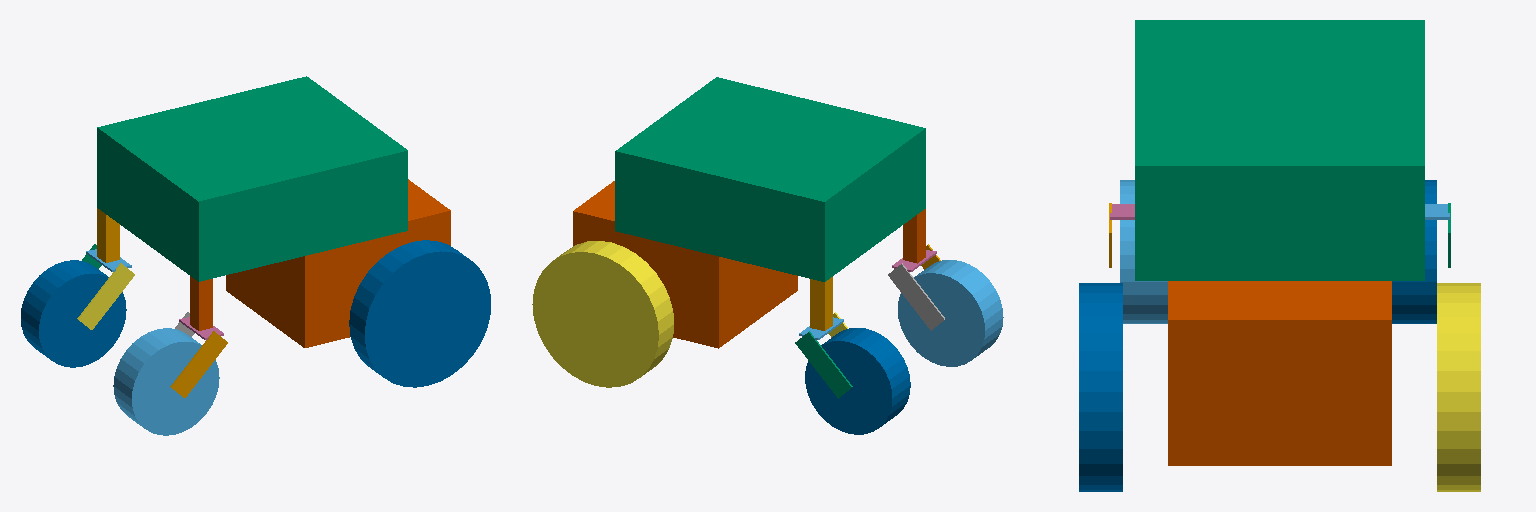
robot.urdf — mobot:
<?xml version="1.0" ?>
<!-- =================================================================================== -->
<!-- |    This document was autogenerated by xacro from mobot.xacro                    | -->
<!-- |    EDITING THIS FILE BY HAND IS NOT RECOMMENDED                                 | -->
<!-- =================================================================================== -->
<robot name="mobot" xmlns:xacro="http://www.ros.org/wiki/xacro">
  <!-- define the base-link origin to lie at floor level, between the drive wheels-->
  <!--main body is a simple box; origin is a center of box-->
  <!--clearance from bottom of box to ground-->
  <!-- derived values-->
  <!-- placement of main body relative to base link frame -->
  <!-- define the drive-wheel dimensions-->
  <!-- "track" is the distance between the drive wheels -->
  <!-- battery box dimensions -->
  <!-- placement of battery box relative to base frame -->
  <!--here is a default inertia matrix with small, but legal values; use this when don't need accuracy for I -->
  <!--model will assign inertia matrix dominated by main body box -->
  <link name="castdrop_left">
    <visual>
      <geometry>
        <box size="0.0381 0.0381 0.125"/>
      </geometry>
      <origin rpy="0 0 0" xyz="0 0 0"/>
    </visual>
    <collision>
      <geometry>
        <box size="0.0381 0.0381 0.125"/>
      </geometry>
      <origin rpy="0 0 0" xyz="0 0 0"/>
    </collision>
    <inertial>
      <mass value="0.2"/>
      <inertia ixx="0.01" ixy="0.0" ixz="0.0" iyy="0.01" iyz="0.0" izz="0.01"/>
    </inertial>
  </link>
  <joint name="cast2base_left" type="fixed">
    <parent link="base_link"/>
    <child link="castdrop_left"/>
    <origin xyz="-0.52705 0.20955 0.2875"/>
  </joint>
  <link name="brackettop_left">
    <visual>
      <geometry>
        <box size="0.1175 0.0508 .005"/>
      </geometry>
      <origin rpy="0 0 0" xyz="0 0 0"/>
    </visual>
    <collision>
      <geometry>
        <box size="0.1175 0.0508 .005"/>
      </geometry>
      <origin rpy="0 0 0" xyz="0 0 0"/>
    </collision>
    <inertial>
      <mass value="0.2"/>
      <inertia ixx="0.01" ixy="0.0" ixz="0.0" iyy="0.01" iyz="0.0" izz="0.01"/>
    </inertial>
  </link>
  <joint name="cast2bracket_left" type="continuous">
    <axis xyz="0 0 1"/>
    <parent link="castdrop_left"/>
    <child link="brackettop_left"/>
    <origin rpy="0 0 1.57079632679" xyz="0 0 -0.0625"/>
    <joint_properties damping="0.0" friction="0.0"/>
  </joint>
  <link name="bracketside1_left">
    <visual>
      <geometry>
        <box size="0.0508 0.16 .005"/>
      </geometry>
      <origin rpy="1.57079632679 -0.7854 1.57079632679" xyz="0 0 0"/>
    </visual>
    <collision>
      <geometry>
        <box size="0.0508 0.16 .005"/>
      </geometry>
      <origin rpy="1.57079632679 -0.7854 1.57079632679" xyz="0 0 0"/>
    </collision>
    <inertial>
      <mass value="0.2"/>
      <inertia ixx="0.01" ixy="0.0" ixz="0.0" iyy="0.01" iyz="0.0" izz="0.01"/>
    </inertial>
  </link>
  <joint name="brack2top1_left" type="fixed">
    <parent link="brackettop_left"/>
    <child link="bracketside1_left"/>
    <origin rpy="0 0 0" xyz="0.05875 .04 -0.06"/>
  </joint>
  <link name="bracketside2_left">
    <visual>
      <geometry>
        <box size="0.0508 0.16 .005"/>
      </geometry>
      <origin rpy="1.57079632679 -0.7854 1.57079632679" xyz="0 0 0"/>
    </visual>
    <collision>
      <geometry>
        <box size="0.0508 0.16 .005"/>
      </geometry>
      <origin rpy="1.57079632679 -0.7854 1.57079632679" xyz="0 0 0"/>
    </collision>
    <inertial>
      <mass value="0.2"/>
      <inertia ixx="0.01" ixy="0.0" ixz="0.0" iyy="0.01" iyz="0.0" izz="0.01"/>
    </inertial>
  </link>
  <joint name="brack2top2_left" type="fixed">
    <parent link="brackettop_left"/>
    <child link="bracketside2_left"/>
    <origin rpy="0 0 0" xyz="-0.05875 .04 -0.06"/>
  </joint>
  <link name="left_casterwheel">
    <visual>
      <geometry>
        <cylinder length="0.0826" radius="0.1143"/>
      </geometry>
    </visual>
    <collision>
      <geometry>
        <cylinder length="0.0826" radius="0.1143"/>
      </geometry>
    </collision>
    <!-- accept default inertial properties for caster wheels-->
    <inertial>
      <mass value="0.5"/>
      <inertia ixx="0.01" ixy="0.0" ixz="0.0" iyy="0.01" iyz="0.0" izz="0.01"/>
    </inertial>
  </link>
  <joint name="left_caster_joint" type="continuous">
    <axis xyz="0 0 1"/>
    <parent link="bracketside1_left"/>
    <child link="left_casterwheel"/>
    <origin rpy="0 1.57079632679 0" xyz="-0.0613 .053 -.053"/>
    <limit effort="100" velocity="15"/>
    <joint_properties damping="0.0" friction="0.0"/>
  </joint>
  <link name="castdrop_right">
    <visual>
      <geometry>
        <box size="0.0381 0.0381 0.125"/>
      </geometry>
      <origin rpy="0 0 0" xyz="0 0 0"/>
    </visual>
    <collision>
      <geometry>
        <box size="0.0381 0.0381 0.125"/>
      </geometry>
      <origin rpy="0 0 0" xyz="0 0 0"/>
    </collision>
    <inertial>
      <mass value="0.2"/>
      <inertia ixx="0.01" ixy="0.0" ixz="0.0" iyy="0.01" iyz="0.0" izz="0.01"/>
    </inertial>
  </link>
  <joint name="cast2base_right" type="fixed">
    <parent link="base_link"/>
    <child link="castdrop_right"/>
    <origin xyz="-0.52705 -0.20955 0.2875"/>
  </joint>
  <link name="brackettop_right">
    <visual>
      <geometry>
        <box size="0.1175 0.0508 .005"/>
      </geometry>
      <origin rpy="0 0 0" xyz="0 0 0"/>
    </visual>
    <collision>
      <geometry>
        <box size="0.1175 0.0508 .005"/>
      </geometry>
      <origin rpy="0 0 0" xyz="0 0 0"/>
    </collision>
    <inertial>
      <mass value="0.2"/>
      <inertia ixx="0.01" ixy="0.0" ixz="0.0" iyy="0.01" iyz="0.0" izz="0.01"/>
    </inertial>
  </link>
  <joint name="cast2bracket_right" type="continuous">
    <axis xyz="0 0 1"/>
    <parent link="castdrop_right"/>
    <child link="brackettop_right"/>
    <origin rpy="0 0 1.57079632679" xyz="0 0 -0.0625"/>
    <joint_properties damping="0.0" friction="0.0"/>
  </joint>
  <link name="bracketside1_right">
    <visual>
      <geometry>
        <box size="0.0508 0.16 .005"/>
      </geometry>
      <origin rpy="1.57079632679 -0.7854 1.57079632679" xyz="0 0 0"/>
    </visual>
    <collision>
      <geometry>
        <box size="0.0508 0.16 .005"/>
      </geometry>
      <origin rpy="1.57079632679 -0.7854 1.57079632679" xyz="0 0 0"/>
    </collision>
    <inertial>
      <mass value="0.2"/>
      <inertia ixx="0.01" ixy="0.0" ixz="0.0" iyy="0.01" iyz="0.0" izz="0.01"/>
    </inertial>
  </link>
  <joint name="brack2top1_right" type="fixed">
    <parent link="brackettop_right"/>
    <child link="bracketside1_right"/>
    <origin rpy="0 0 0" xyz="0.05875 .04 -0.06"/>
  </joint>
  <link name="bracketside2_right">
    <visual>
      <geometry>
        <box size="0.0508 0.16 .005"/>
      </geometry>
      <origin rpy="1.57079632679 -0.7854 1.57079632679" xyz="0 0 0"/>
    </visual>
    <collision>
      <geometry>
        <box size="0.0508 0.16 .005"/>
      </geometry>
      <origin rpy="1.57079632679 -0.7854 1.57079632679" xyz="0 0 0"/>
    </collision>
    <inertial>
      <mass value="0.2"/>
      <inertia ixx="0.01" ixy="0.0" ixz="0.0" iyy="0.01" iyz="0.0" izz="0.01"/>
    </inertial>
  </link>
  <joint name="brack2top2_right" type="fixed">
    <parent link="brackettop_right"/>
    <child link="bracketside2_right"/>
    <origin rpy="0 0 0" xyz="-0.05875 .04 -0.06"/>
  </joint>
  <link name="right_casterwheel">
    <visual>
      <geometry>
        <cylinder length="0.0826" radius="0.1143"/>
      </geometry>
    </visual>
    <collision>
      <geometry>
        <cylinder length="0.0826" radius="0.1143"/>
      </geometry>
    </collision>
    <!-- accept default inertial properties for caster wheels-->
    <inertial>
      <mass value="0.5"/>
      <inertia ixx="0.01" ixy="0.0" ixz="0.0" iyy="0.01" iyz="0.0" izz="0.01"/>
    </inertial>
  </link>
  <joint name="right_caster_joint" type="continuous">
    <axis xyz="0 0 1"/>
    <parent link="bracketside1_right"/>
    <child link="right_casterwheel"/>
    <origin rpy="0 1.57079632679 0" xyz="-0.0613 .053 -.053"/>
    <limit effort="100" velocity="15"/>
    <joint_properties damping="0.0" friction="0.0"/>
  </joint>
  <link name="base_link">
    <visual>
      <geometry>
        <box size="0.5461 0.4572 0.2"/>
      </geometry>
      <origin rpy="0 0 0" xyz="-0.27305 0 0.45"/>
    </visual>
    <collision>
      <geometry>
        <box size="0.5461 0.4572 0.2"/>
      </geometry>
      <origin rpy="0 0 0" xyz="-0.27305 0 0.45"/>
    </collision>
    <inertial>
      <!--assign almost all the mass to the main body box; set m= 100kg; treat I as approx m*r^2 -->
      <mass value="100"/>
      <inertia ixx="10" ixy="0" ixz="0" iyy="10" iyz="0" izz="10"/>
    </inertial>
  </link>
  <link name="left_wheel">
    <visual>
      <geometry>
        <cylinder length="0.06985" radius="0.1651"/>
      </geometry>
    </visual>
    <collision>
      <geometry>
        <cylinder length="0.06985" radius="0.1651"/>
      </geometry>
    </collision>
    <inertial>
      <!--assign inertial properties to drive wheels -->
      <mass value="1"/>
      <inertia ixx="0.1" ixy="0" ixz="0" iyy="0.1" iyz="0" izz="0.1"/>
    </inertial>
  </link>
  <joint name="left_wheel_joint" type="continuous">
    <axis xyz="0 0 1"/>
    <parent link="base_link"/>
    <child link="left_wheel"/>
    <origin rpy="0 1.57079632679 1.57079632679" xyz="0 0.282575 0.1651"/>
    <limit effort="100" velocity="15"/>
    <joint_properties damping="0.0" friction="0.0"/>
  </joint>
  <link name="right_wheel">
    <visual>
      <geometry>
        <cylinder length="0.06985" radius="0.1651"/>
      </geometry>
    </visual>
    <collision>
      <geometry>
        <cylinder length="0.06985" radius="0.1651"/>
      </geometry>
    </collision>
    <inertial>
      <!--assign inertial properties to drive wheels -->
      <mass value="1"/>
      <inertia ixx="0.1" ixy="0" ixz="0" iyy="0.1" iyz="0" izz="0.1"/>
    </inertial>
  </link>
  <joint name="right_wheel_joint" type="continuous">
    <axis xyz="0 0 1"/>
    <parent link="base_link"/>
    <child link="right_wheel"/>
    <origin rpy="0 1.57079632679 1.57079632679" xyz="0 -0.282575 0.1651"/>
    <limit effort="100" velocity="15"/>
    <joint_properties damping="0.0" friction="0.0"/>
  </joint>
  <link name="batterybox">
    <visual>
      <geometry>
        <box size="0.381 0.3556 0.254"/>
      </geometry>
      <origin rpy="0 0 0" xyz="0 0 0"/>
    </visual>
    <collision>
      <geometry>
        <box size="0.381 0.3556 0.254"/>
      </geometry>
      <origin rpy="0 0 0" xyz="0 0 0"/>
    </collision>
    <inertial>
      <mass value="1"/>
      <inertia ixx="0.01" ixy="0.0" ixz="0.0" iyy="0.01" iyz="0.0" izz="0.01"/>
    </inertial>
  </link>
  <joint name="batterytobase" type="fixed">
    <parent link="base_link"/>
    <child link="batterybox"/>
    <origin rpy="0 0 0" xyz="-0.05 0 0.22"/>
  </joint>
  <gazebo>
    <plugin filename="libgazebo_ros_diff_drive.so" name="differential_drive_controller">
      <alwaysOn>true</alwaysOn>
      <updateRate>100</updateRate>
      <leftJoint>right_wheel_joint</leftJoint>
      <rightJoint>left_wheel_joint</rightJoint>
      <wheelSeparation>0.56515</wheelSeparation>
      <wheelDiameter>0.3302</wheelDiameter>
      <torque>200</torque>
      <commandTopic>cmd_vel</commandTopic>
      <odometryTopic>odom</odometryTopic>
      <odometryFrame>odom</odometryFrame>
      <robotBaseFrame>base_link</robotBaseFrame>
      <publishWheelTF>true</publishWheelTF>
      <publishWheelJointState>true</publishWheelJointState>
    </plugin>
  </gazebo>
</robot>

--- What the picture shows (computed from the rendered views, not written in the file) ---
The picture shows the robot from 3 angles, left to right: view 1: azimuth 30°, elevation 25°; view 2: azimuth 150°, elevation 25°; view 3: azimuth 270°, elevation 25°; orthographic projection.
Robot: mobot — 14 links, 13 joints (6 continuous, 7 fixed); root link base_link; default pose: all joints at 0.
Links seen in each view (by area): view 1: base_link, right_wheel, batterybox, right_casterwheel, left_casterwheel, bracketside2_left, bracketside2_right, castdrop_right, castdrop_left; view 2: base_link, left_wheel, batterybox, left_casterwheel, right_casterwheel, bracketside1_right, bracketside1_left, castdrop_left, castdrop_right; view 3: base_link, batterybox, left_wheel, right_wheel, right_casterwheel, left_casterwheel.
Link boxes in pixels (<box>): base_link: <box>97,76,407,281</box>; right_wheel: <box>349,240,490,387</box>; batterybox: <box>226,179,450,347</box>; right_casterwheel: <box>113,328,219,435</box>; left_casterwheel: <box>21,260,126,367</box>; bracketside2_left: <box>77,263,134,329</box>; bracketside2_right: <box>170,331,227,397</box>; castdrop_right: <box>190,276,212,330</box>; castdrop_left: <box>97,208,119,262</box>; base_link: <box>615,77,925,281</box>; left_wheel: <box>532,241,673,387</box>; batterybox: <box>573,181,797,348</box>; left_casterwheel: <box>805,328,910,434</box>; right_casterwheel: <box>898,260,1003,366</box>; bracketside1_right: <box>888,263,944,330</box>; bracketside1_left: <box>795,331,852,398</box>; castdrop_left: <box>810,277,832,330</box>; castdrop_right: <box>903,209,925,263</box>; base_link: <box>1135,20,1424,280</box>; batterybox: <box>1168,281,1391,465</box>; left_wheel: <box>1437,283,1480,491</box>; right_wheel: <box>1079,283,1122,491</box>; right_casterwheel: <box>1120,180,1167,323</box>; left_casterwheel: <box>1392,180,1436,323</box>.
Size in the robot's own frame: 0.8995 by 0.635 by 0.5523 metres.
Geometry: primitives only (box / cylinder / sphere), no mesh files.
